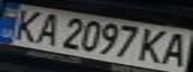0: (78, 18, 103, 53)
2: (54, 16, 87, 51)
7: (115, 22, 145, 61)
9: (96, 20, 121, 56)
A: (154, 30, 193, 68), (27, 10, 66, 46)
K: (133, 26, 175, 65), (3, 7, 48, 43)
